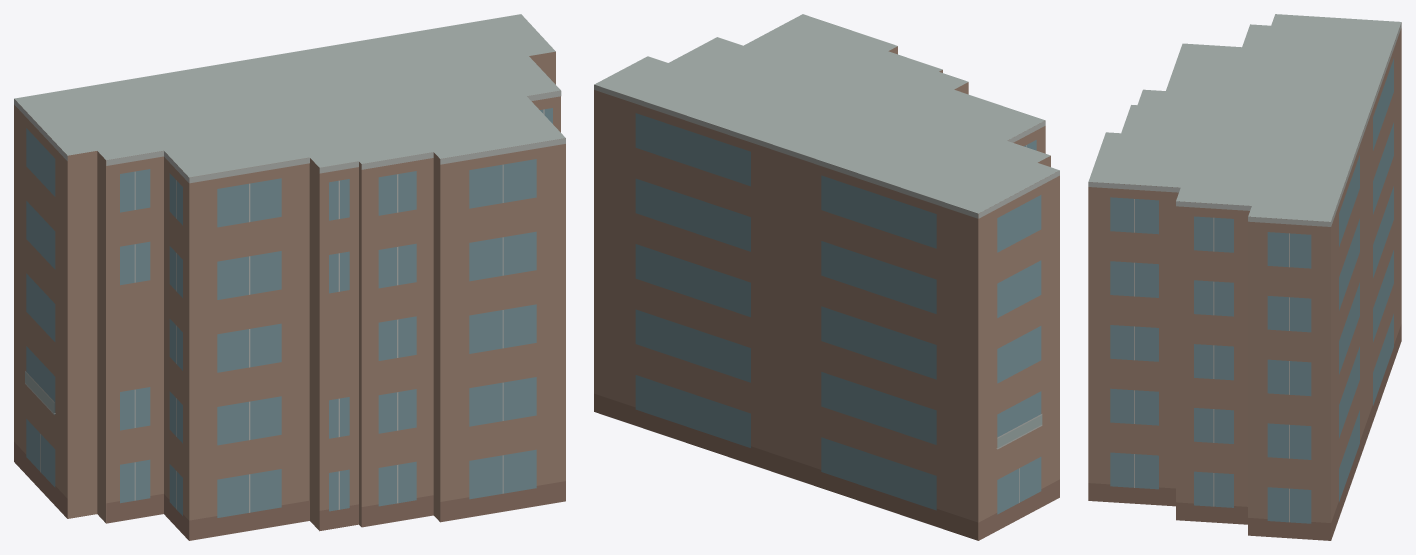
Rendered from survey-upis-32969735.glb.
3 renders of one model, left to right at view 1: azimuth 30°, elevation 25°; view 2: azimuth 150°, elevation 25°; view 3: azimuth 270°, elevation 25°, orthographic. The views are drawn at different scales.
Parts seen in each view (by area): view 1: survey-upis-32969735.tmp; view 2: survey-upis-32969735.tmp; view 3: survey-upis-32969735.tmp.
Part boxes in pixels (box(x1,y1,x2,y2)): survey-upis-32969735.tmp: box(14, 14, 565, 540); survey-upis-32969735.tmp: box(594, 14, 1059, 540); survey-upis-32969735.tmp: box(1088, 14, 1401, 540).
Size of the model in its own units: 21.33 by 15.25 by 13.58.
